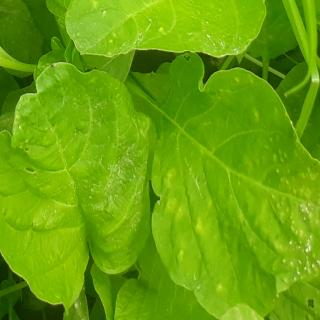karat_putih: (138, 45, 320, 314)
virus_keriting: (59, 0, 273, 66)
